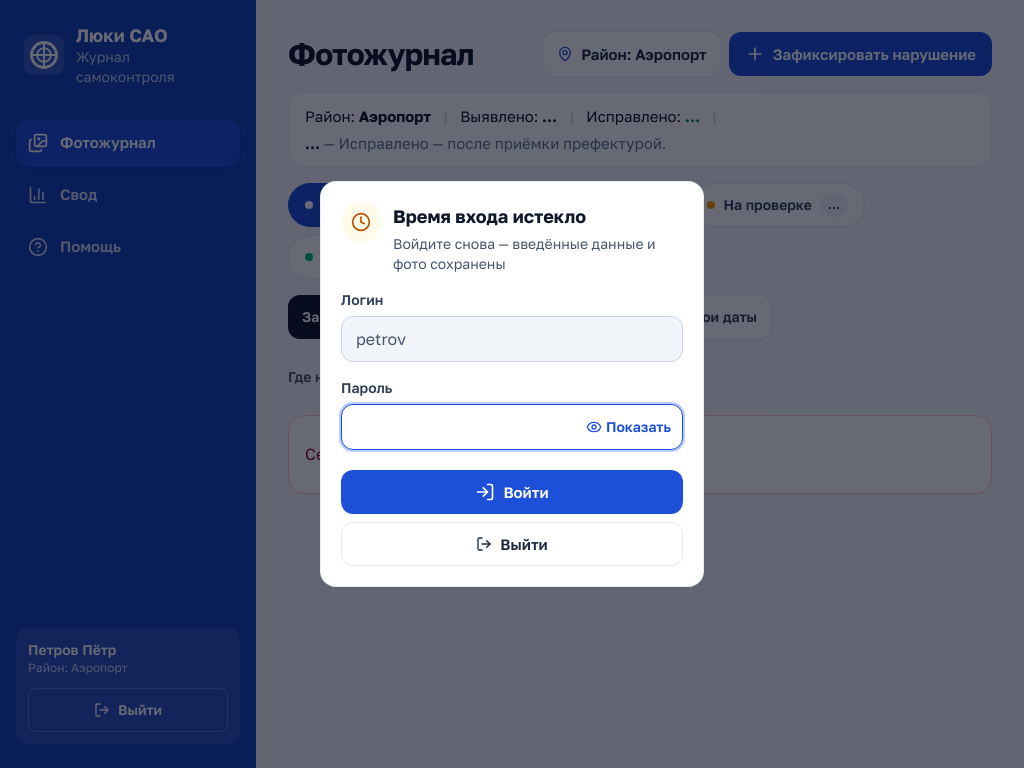
Test: ReloginDialog › пустой пароль не отправляется
This screenshot has width=1024, height=768.
Click the button "Войти".
click(512, 492)  # box [341, 470, 683, 514]
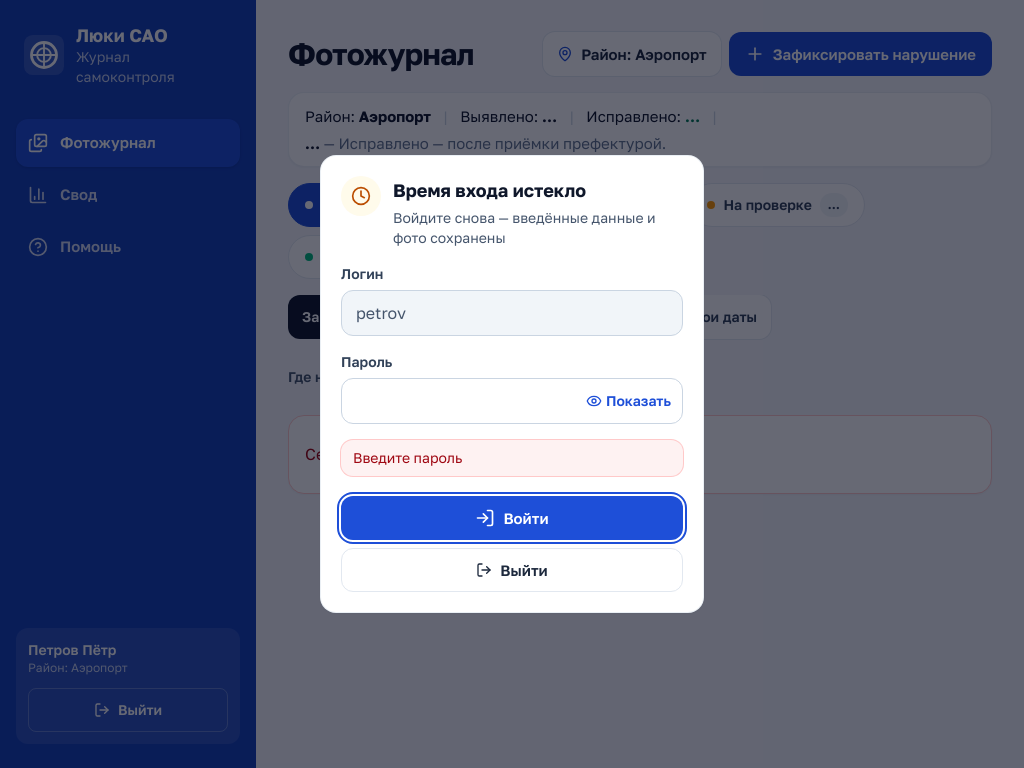
Expected: the message reads "Введите пароль", [353, 449, 462, 466]
